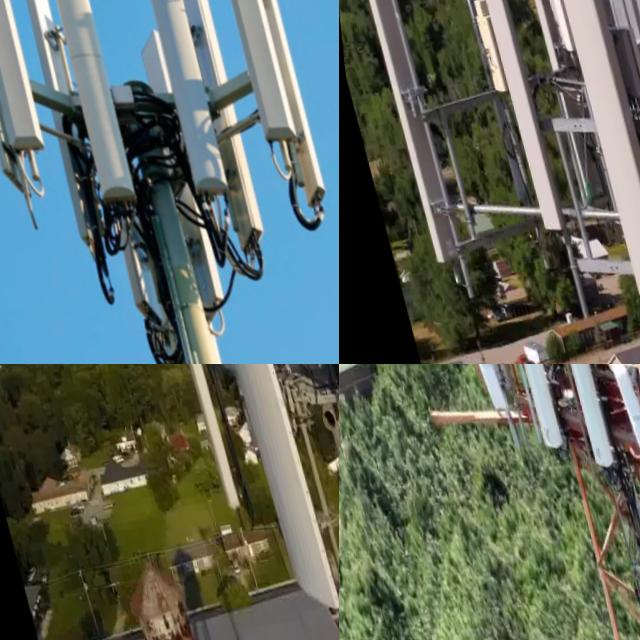GSM Antenna: (158, 364, 339, 619), (529, 0, 640, 312), (339, 0, 461, 274), (0, 0, 112, 267), (460, 0, 568, 250), (168, 0, 270, 257), (490, 0, 610, 217), (27, 0, 139, 208), (122, 0, 230, 197), (231, 0, 328, 213), (276, 364, 339, 640), (190, 0, 296, 148), (139, 364, 238, 508), (563, 0, 640, 143), (0, 0, 52, 162), (541, 364, 611, 481), (492, 364, 563, 454), (596, 364, 640, 463), (450, 364, 508, 429)
